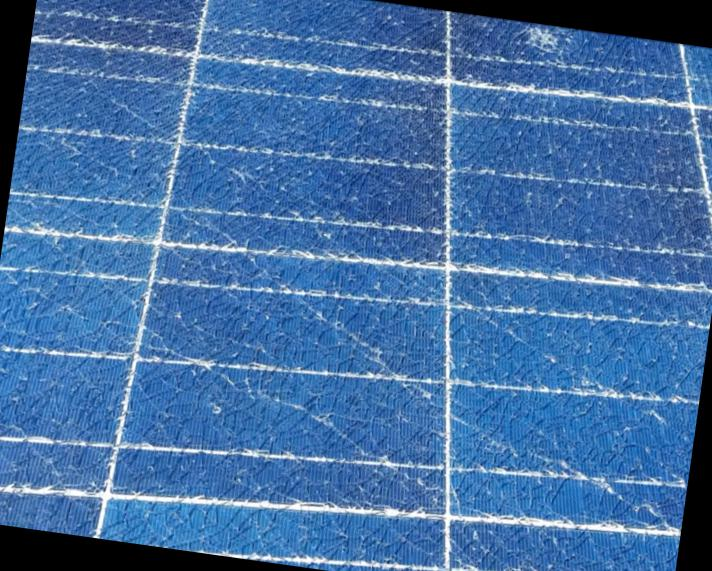Crack: (508, 20, 584, 70)
